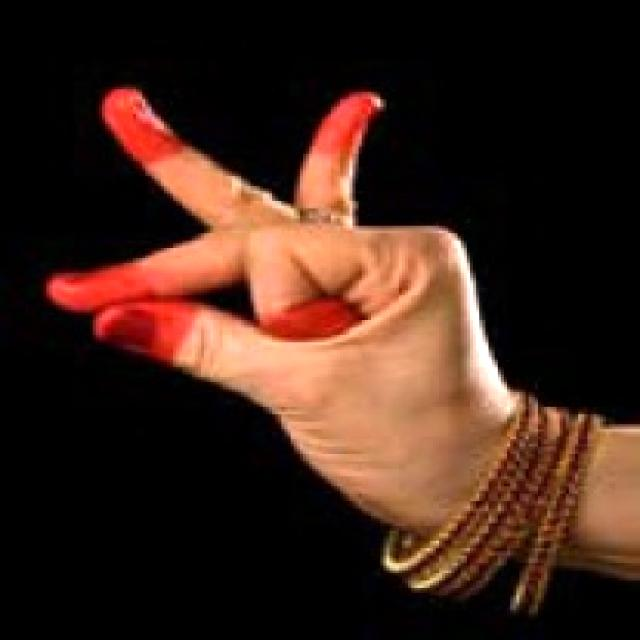Bhramara: (47, 46, 512, 492)
